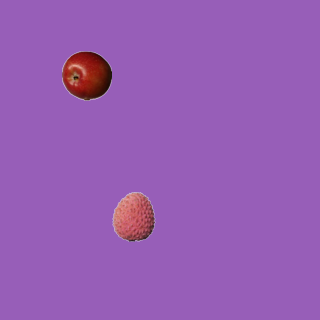Apple Braeburn: (61, 50, 111, 100)
Lychee: (108, 191, 158, 241)
